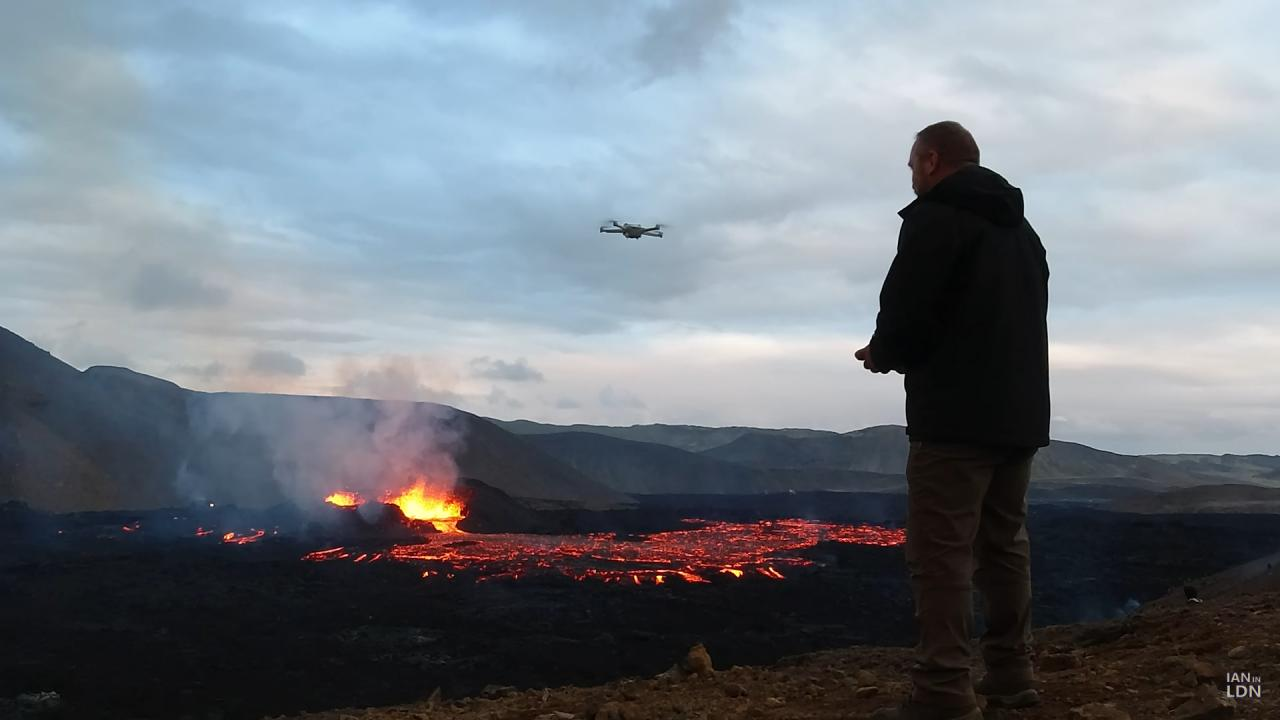Drone: (590, 213, 671, 250)
